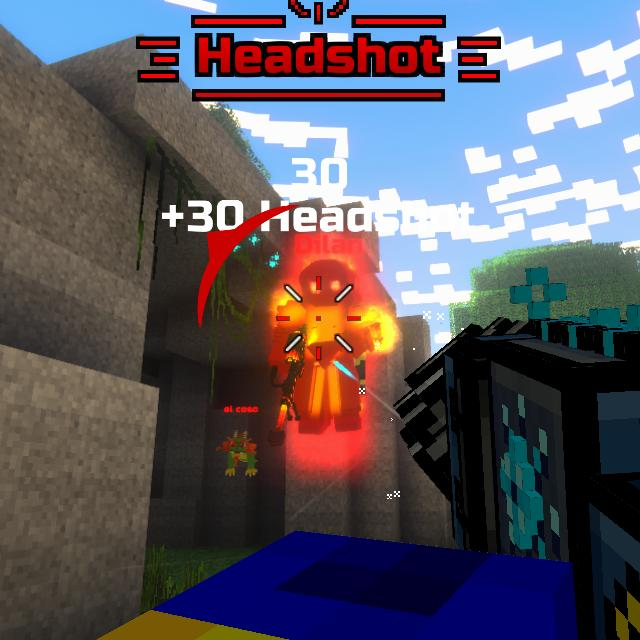Enemy: (276, 257, 383, 435)
